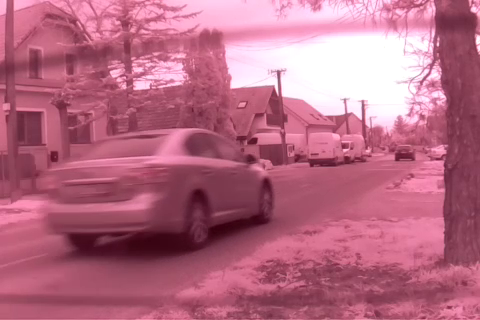car: (38, 125, 280, 253), (394, 143, 417, 162)
